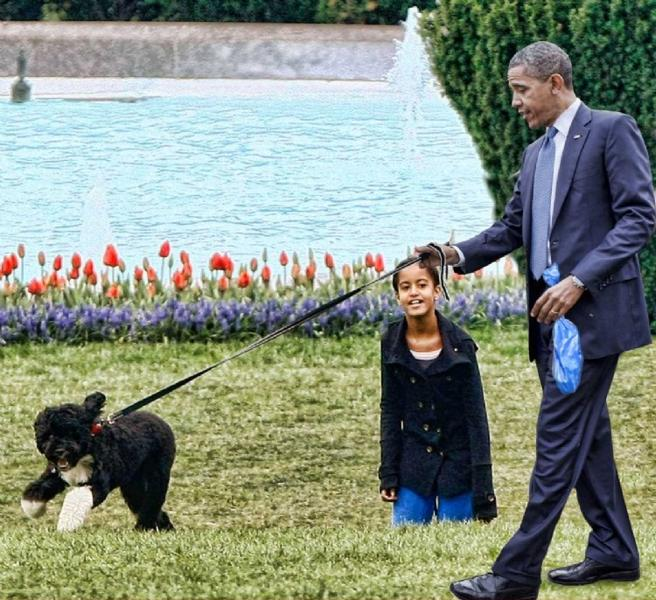person: (417, 43, 656, 596)
